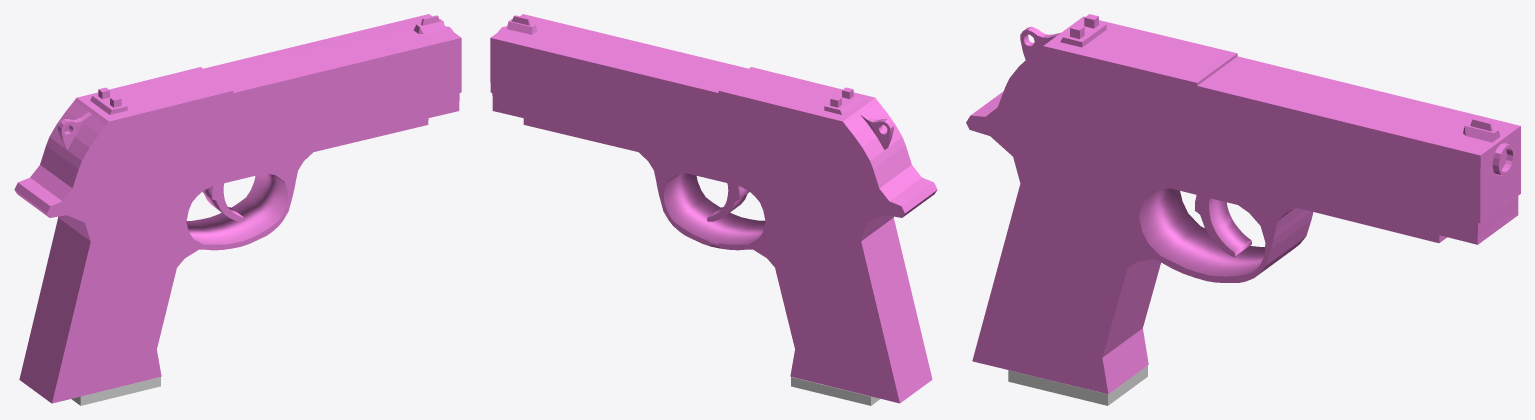
The model's file is pistol first concept complete 2.fbx.
3 renders of one model, left to right at view 1: azimuth 30°, elevation 25°; view 2: azimuth 150°, elevation 25°; view 3: azimuth 330°, elevation 25°, orthographic. The views are drawn at different scales.
Parts seen in each view (by area): view 1: handle, hammer, magazine, trigger; view 2: handle, hammer, magazine, trigger; view 3: handle, hammer, trigger, magazine, barrel 2.
Boxes of the visible parts, <box> form: handle: <box>14,93,459,403</box>; hammer: <box>40,14,461,188</box>; magazine: <box>71,377,160,405</box>; trigger: <box>202,183,244,221</box>; handle: <box>492,91,937,403</box>; hammer: <box>490,14,911,188</box>; magazine: <box>791,377,880,405</box>; trigger: <box>707,183,749,221</box>; handle: <box>966,91,1518,394</box>; hammer: <box>998,14,1520,223</box>; trigger: <box>1194,195,1251,257</box>; magazine: <box>1008,365,1147,405</box>; barrel 2: <box>1492,143,1514,176</box>.
Bounding box in the file's own units: 483 × 318 × 65.
